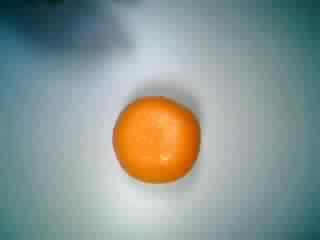orange: (109, 88, 206, 186)
